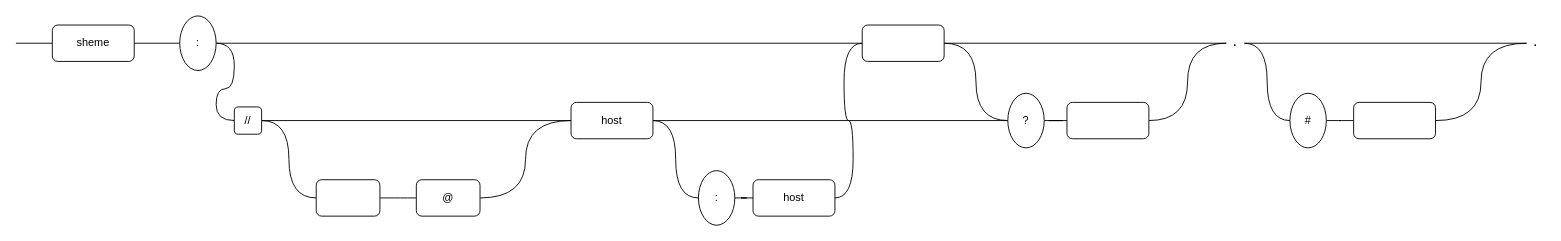
Some shapes in this 1561 by 241 pixel diagram are drawn without their labels. The shapes that lost their labels are listed below. From the top down, each one's box as (x1, y1, x2, y2) in pixels, then its label:
(861, 24, 944, 61): path
(1066, 101, 1149, 139): query
(1353, 101, 1436, 139): fragment
(315, 179, 380, 216): userinfo
